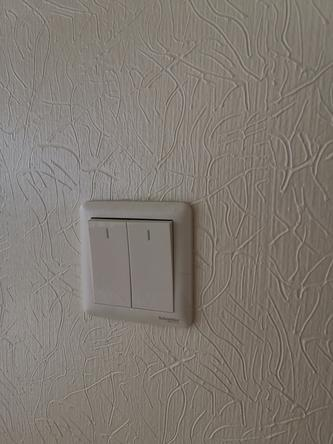switch: (124, 215, 179, 315), (84, 213, 136, 313)
